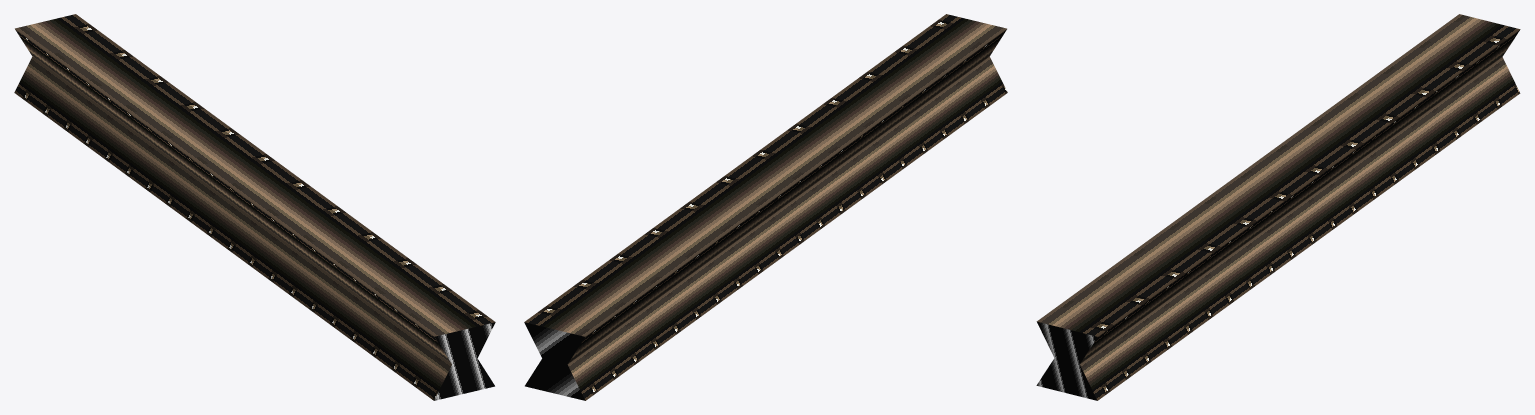
Rendered from bar.dae.
3 views of the same model, side by side, from view 1: azimuth 30°, elevation 25°; view 2: azimuth 150°, elevation 25°; view 3: azimuth 330°, elevation 25° (orthographic).
Visible parts, largest first — view 1: bar, barshine; view 2: bar, barshine; view 3: bar, barshine.
Boxes of the visible parts, bbox=[...] form: bar: bbox=[14, 14, 495, 400]; barshine: bbox=[434, 322, 495, 400]; bar: bbox=[524, 14, 1007, 400]; barshine: bbox=[524, 322, 585, 400]; bar: bbox=[1037, 14, 1520, 400]; barshine: bbox=[1036, 321, 1097, 400].
Size of the model in its own units: 84.27 by 83.02 by 976.
2 materials, 2 textured.
